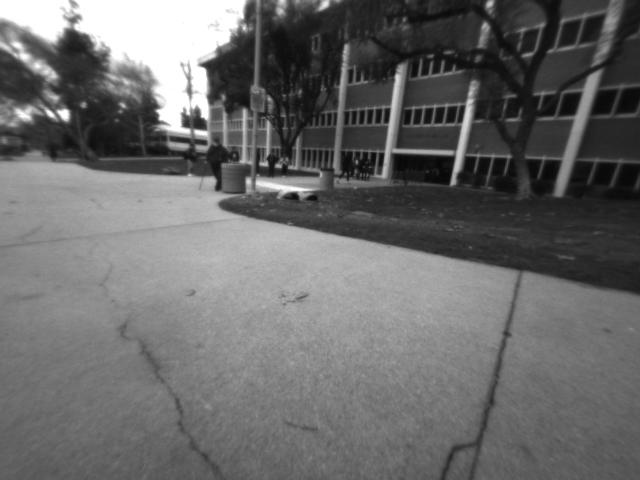trashcan: (218, 158, 249, 198), (317, 164, 337, 195)
